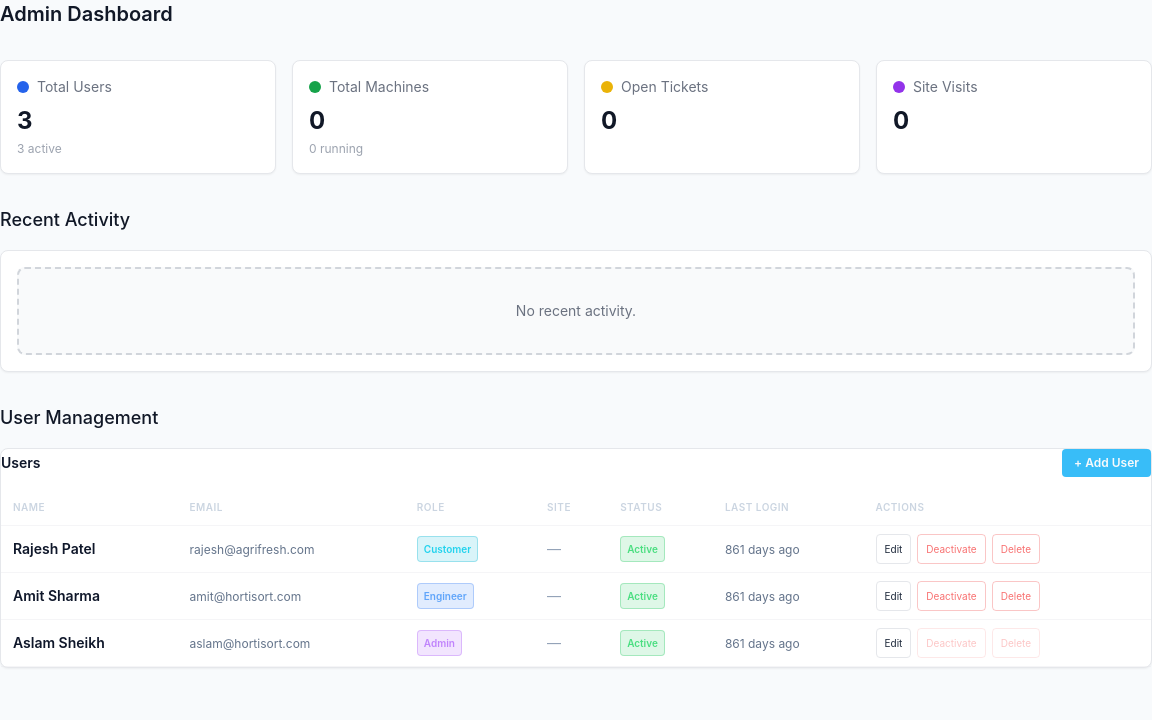
AdminPage › opens DeleteUserModal when "Delete" button is clicked on a user row
This screenshot has width=1152, height=720.
Click the button "Delete" in the row of "Rajesh Patel": (1016, 549) [992, 534, 1040, 564]
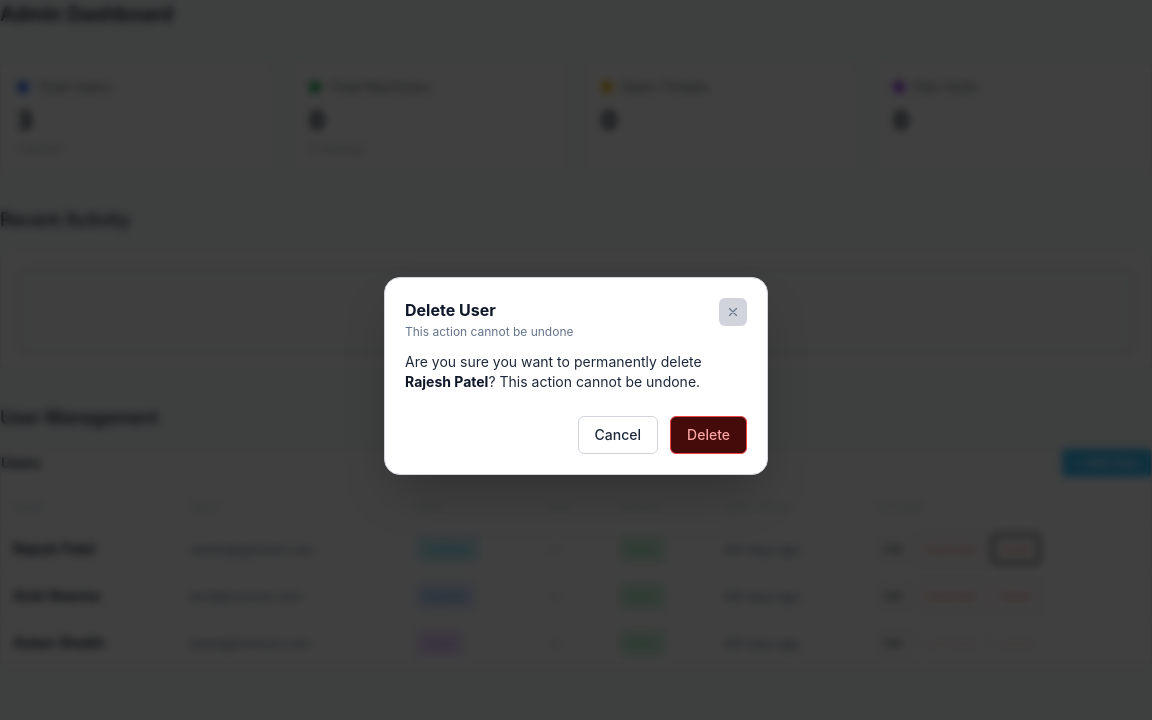
Expected: the dialog is shown
